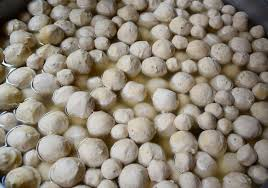bakso: (6, 5, 260, 186)
